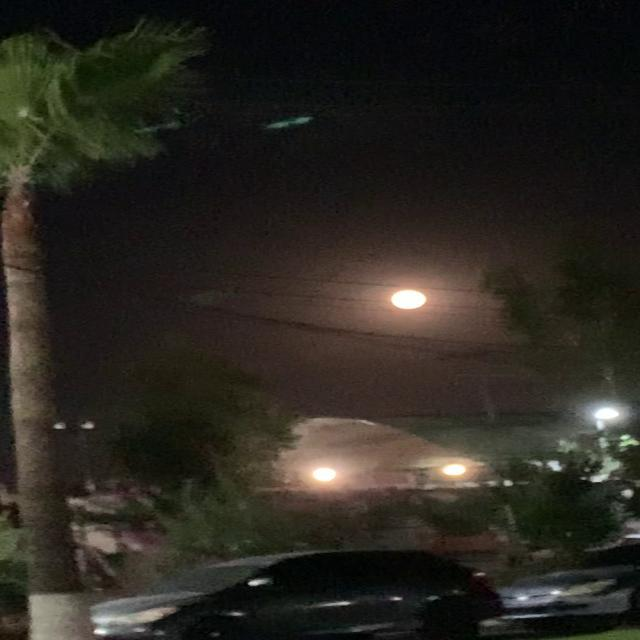moon: (377, 289, 435, 317)
